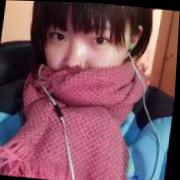WRONG: (37, 9, 136, 106)
